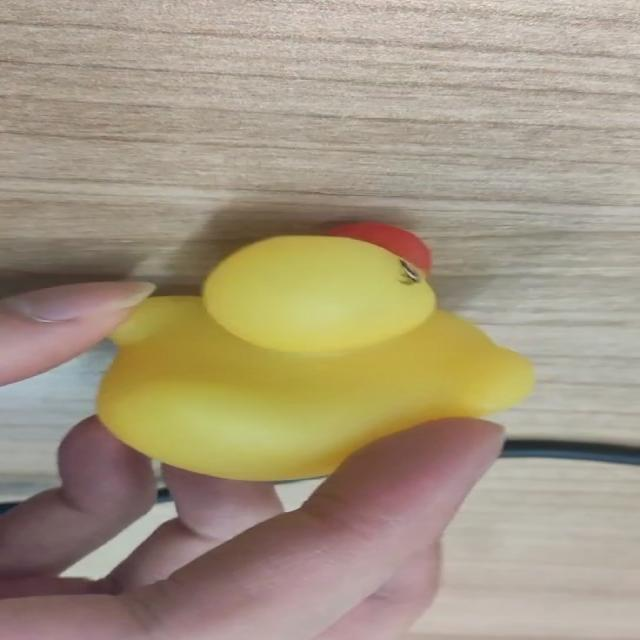rubber-duck: (97, 223, 532, 479)
